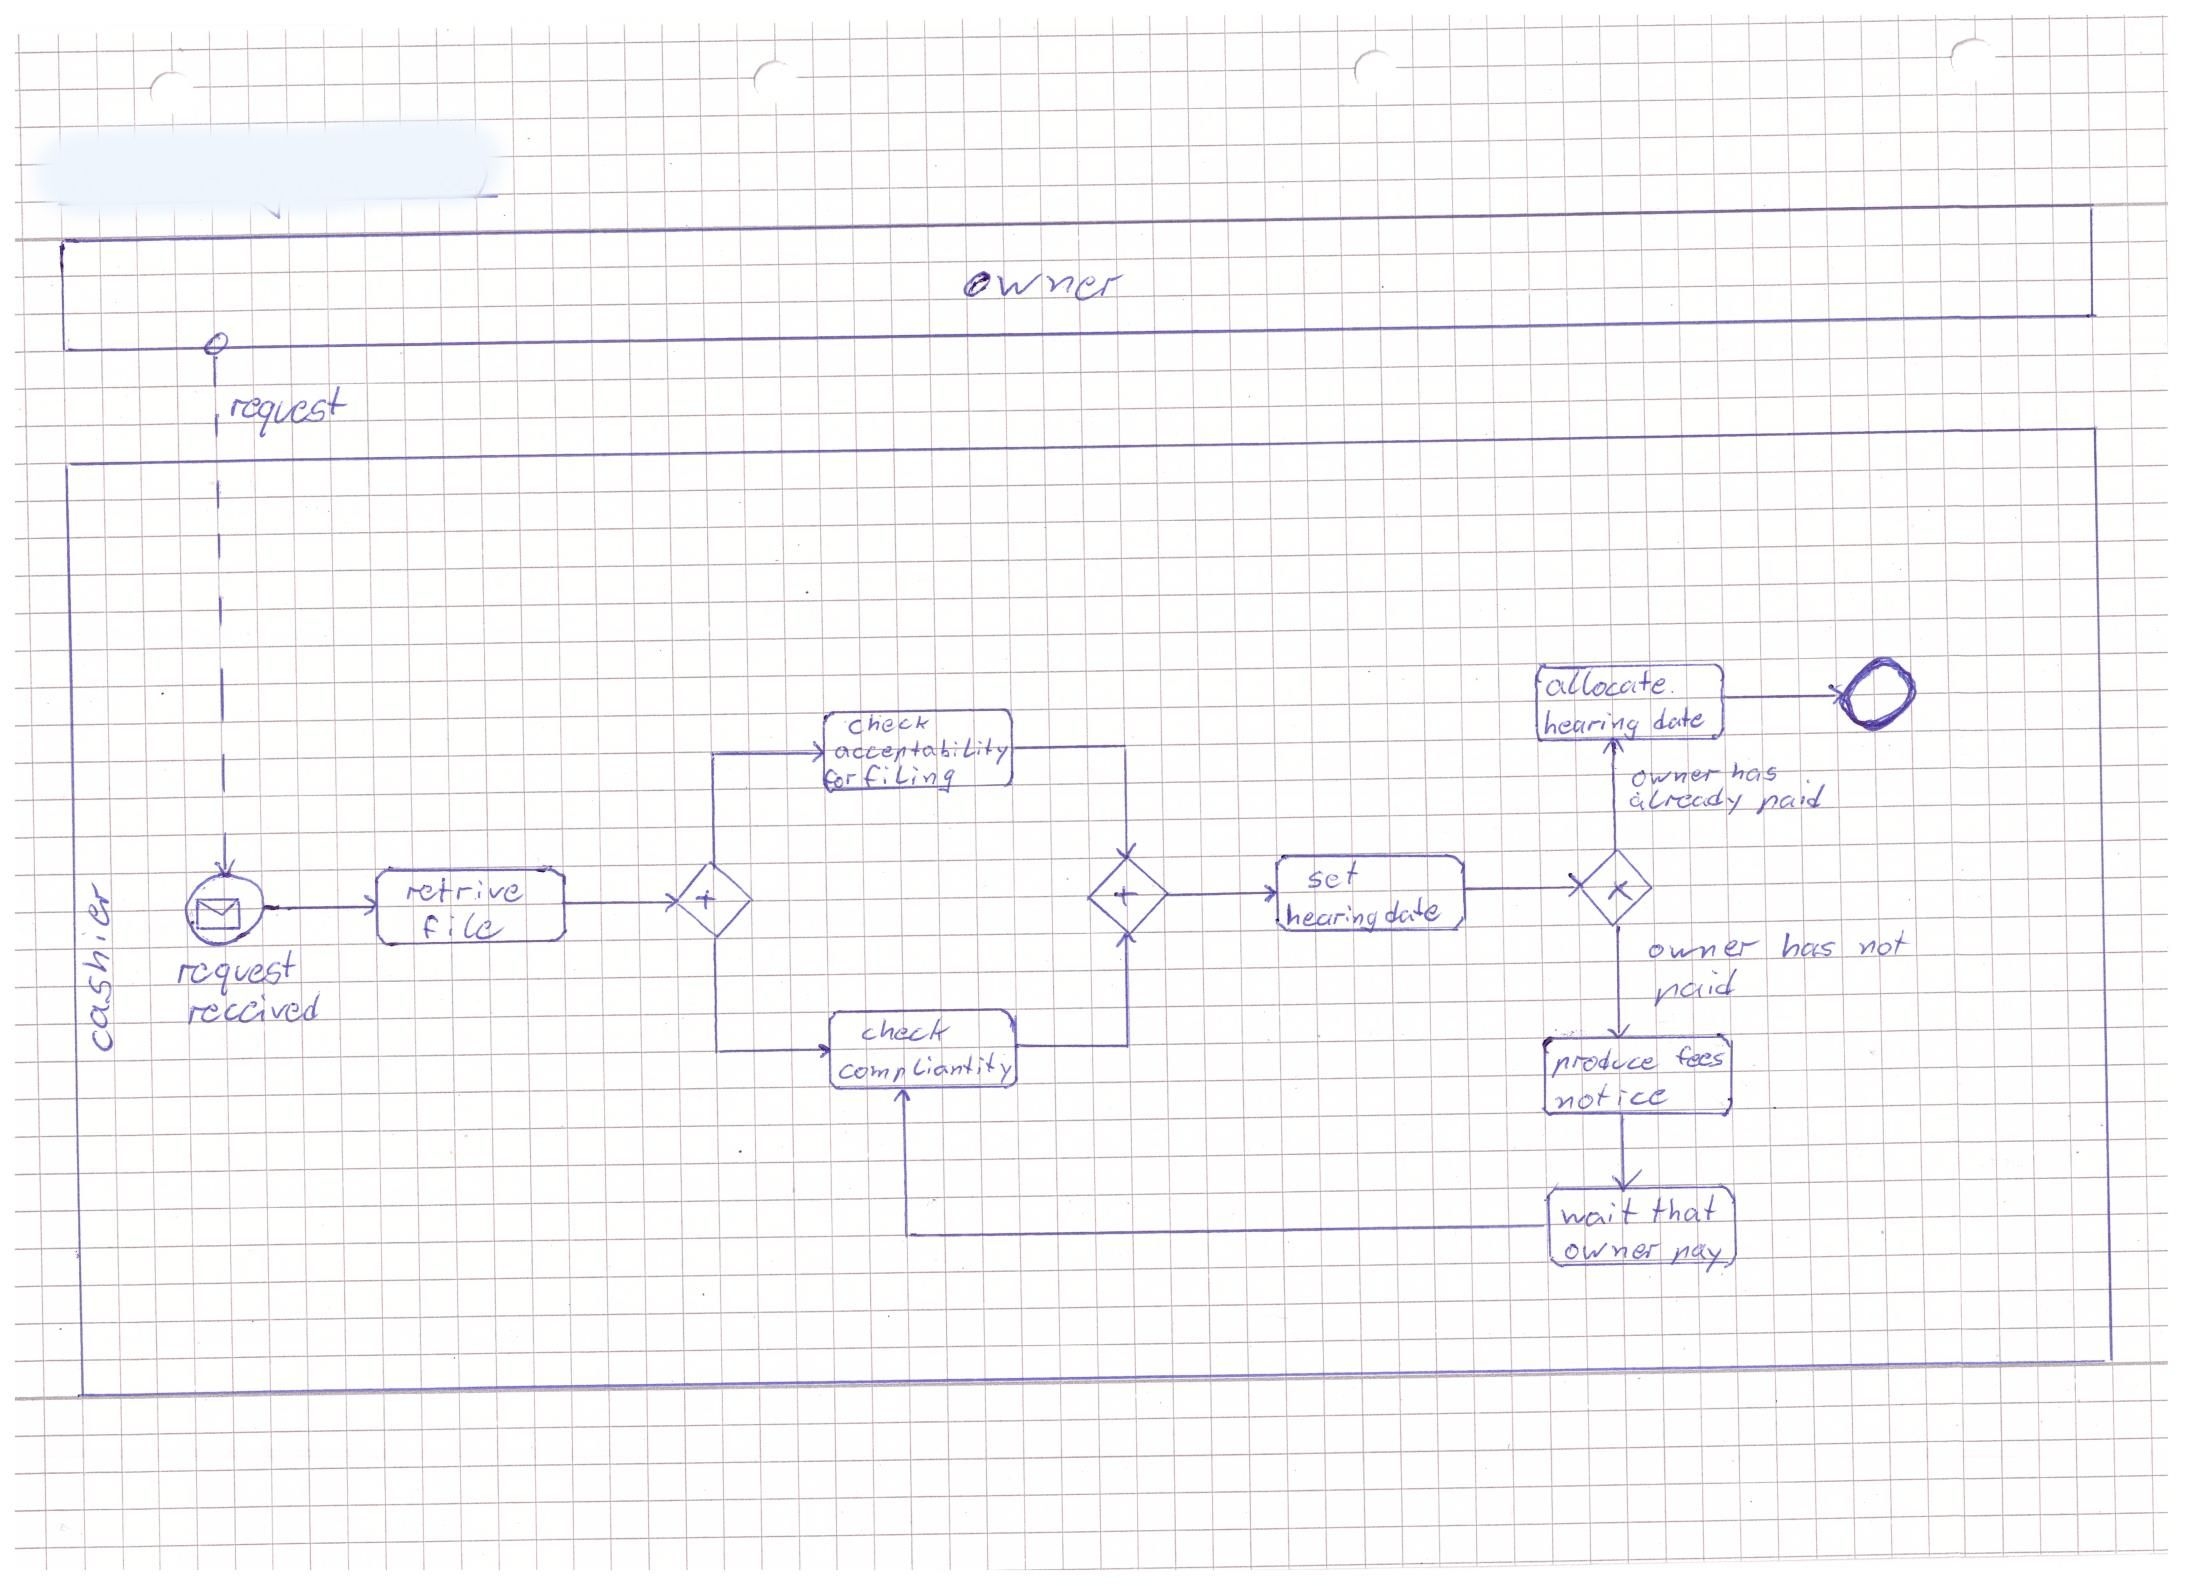acceptability: (830, 731, 1013, 769)
allocate.: (1540, 665, 1678, 703)
already: (1623, 782, 1747, 820)
cashier: (76, 876, 124, 1061)
check: (855, 1015, 957, 1049), (843, 709, 935, 738)
compliantity: (835, 1047, 1016, 1088)
date: (1379, 893, 1445, 928), (1647, 703, 1708, 735)
fees: (1673, 1044, 1729, 1073)
file: (417, 910, 511, 945)
filing: (858, 760, 960, 798)
for: (819, 764, 862, 794)
has: (1776, 928, 1841, 966), (1727, 759, 1785, 786)
hearing: (1539, 704, 1646, 745), (1281, 898, 1381, 937)
not: (1854, 927, 1915, 962)
notice: (1551, 1078, 1674, 1115)
owner: (958, 261, 1130, 305), (1644, 932, 1766, 967), (1627, 764, 1725, 792), (1557, 1239, 1668, 1264)
paid: (1647, 962, 1742, 1015), (1751, 777, 1832, 820)
pay: (1666, 1241, 1725, 1278)
produce: (1545, 1044, 1664, 1083)
received: (182, 989, 326, 1032)
request: (224, 382, 351, 443), (171, 945, 300, 1000)
retrive: (402, 872, 528, 910)
set: (1301, 857, 1364, 894)
that: (1646, 1191, 1724, 1227)
wait: (1554, 1195, 1646, 1234)
